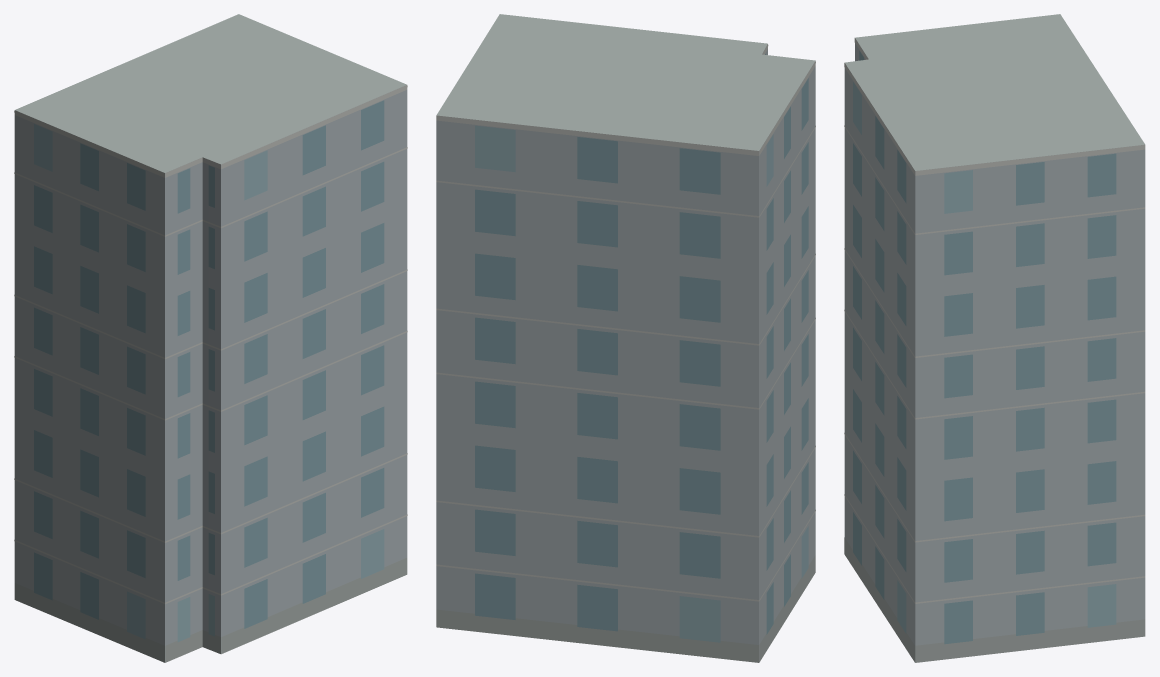
Rendered from survey-upis-32562634.glb.
The picture shows the model from 3 angles, left to right: view 1: azimuth 30°, elevation 25°; view 2: azimuth 150°, elevation 25°; view 3: azimuth 270°, elevation 25°; orthographic projection. The views are drawn at different scales.
Parts seen in each view (by area): view 1: survey-upis-32562634.tmp; view 2: survey-upis-32562634.tmp; view 3: survey-upis-32562634.tmp.
Boxes of the visible parts, left/top/right/bottom form: survey-upis-32562634.tmp: left=14, top=14, right=407, bottom=662; survey-upis-32562634.tmp: left=436, top=14, right=815, bottom=662; survey-upis-32562634.tmp: left=844, top=14, right=1145, bottom=662.
Size of the model in its own units: 16.73 by 24.4 by 13.55.
